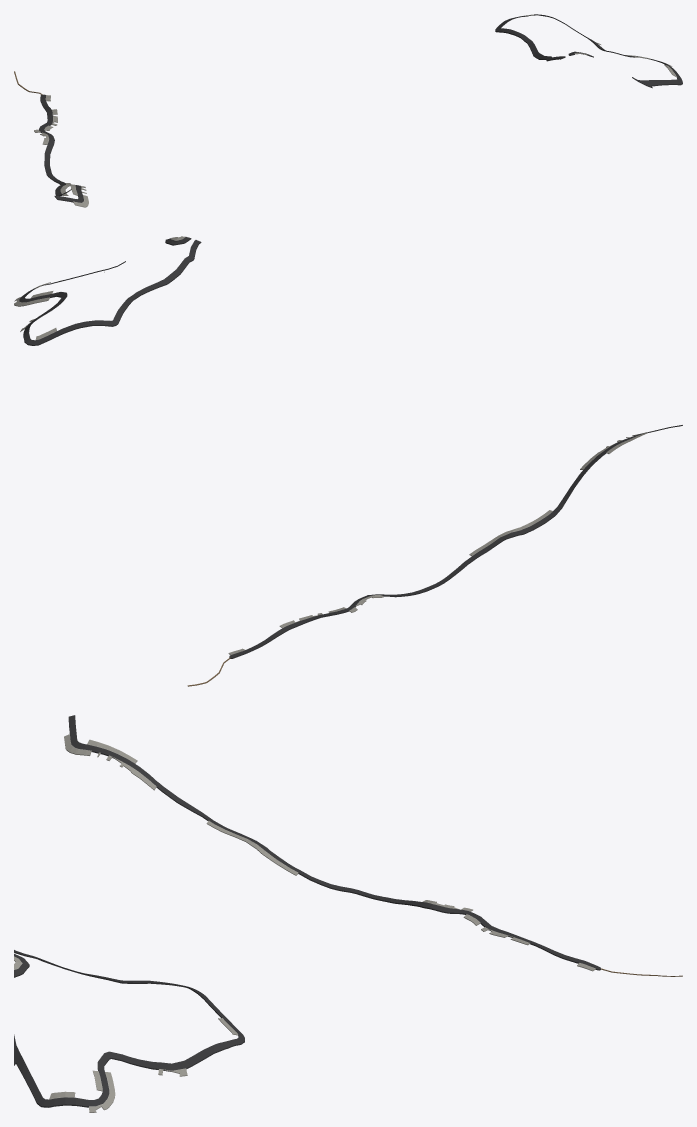
The picture shows the model from 3 angles, top to bottom: view 1: azimuth 30°, elevation 25°; view 2: azimuth 150°, elevation 25°; view 3: azimuth 270°, elevation 25°; orthographic projection. The views are drawn at different scales.
Size of the model in its own units: 811 by 195 by 629.
